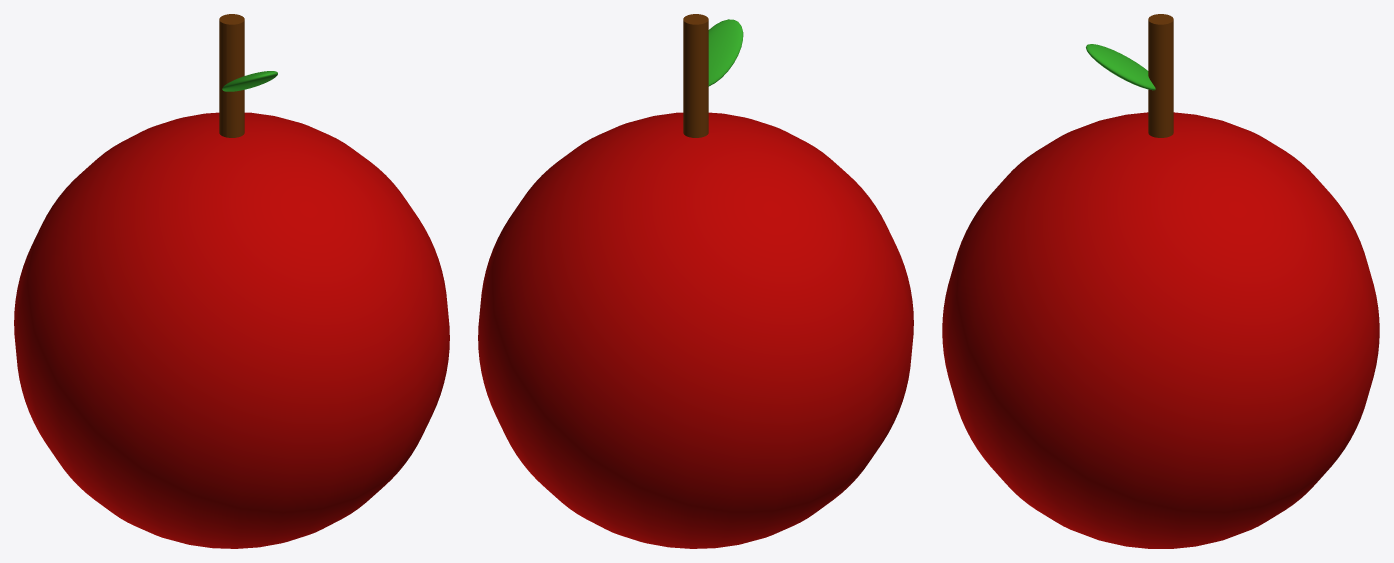
Rendered from Apfel.fbx.
3 renders of one model, left to right at view 1: azimuth 30°, elevation 25°; view 2: azimuth 150°, elevation 25°; view 3: azimuth 270°, elevation 25°, orthographic.
Parts seen in each view (by area): view 1: Apfel; view 2: Apfel; view 3: Apfel.
Part boxes in pixels (left/top/right/bottom): Apfel: left=14, top=14, right=449, bottom=548; Apfel: left=478, top=14, right=913, bottom=548; Apfel: left=942, top=14, right=1379, bottom=548.
Bounding box in the file's own units: 0.1122 × 0.1454 × 0.1131.
